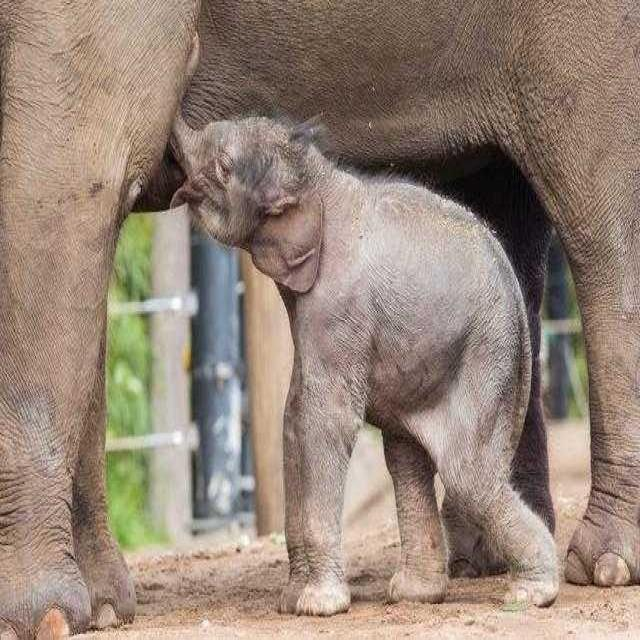Elephant: (1, 0, 638, 634), (166, 108, 560, 616)
